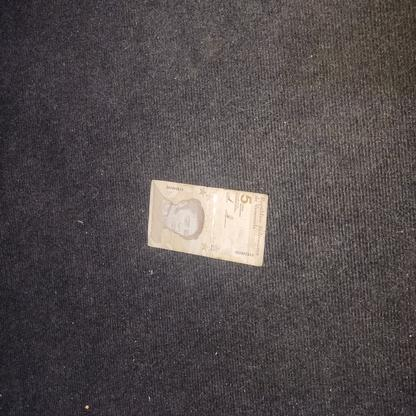five-front-vef: (146, 178, 268, 266)
